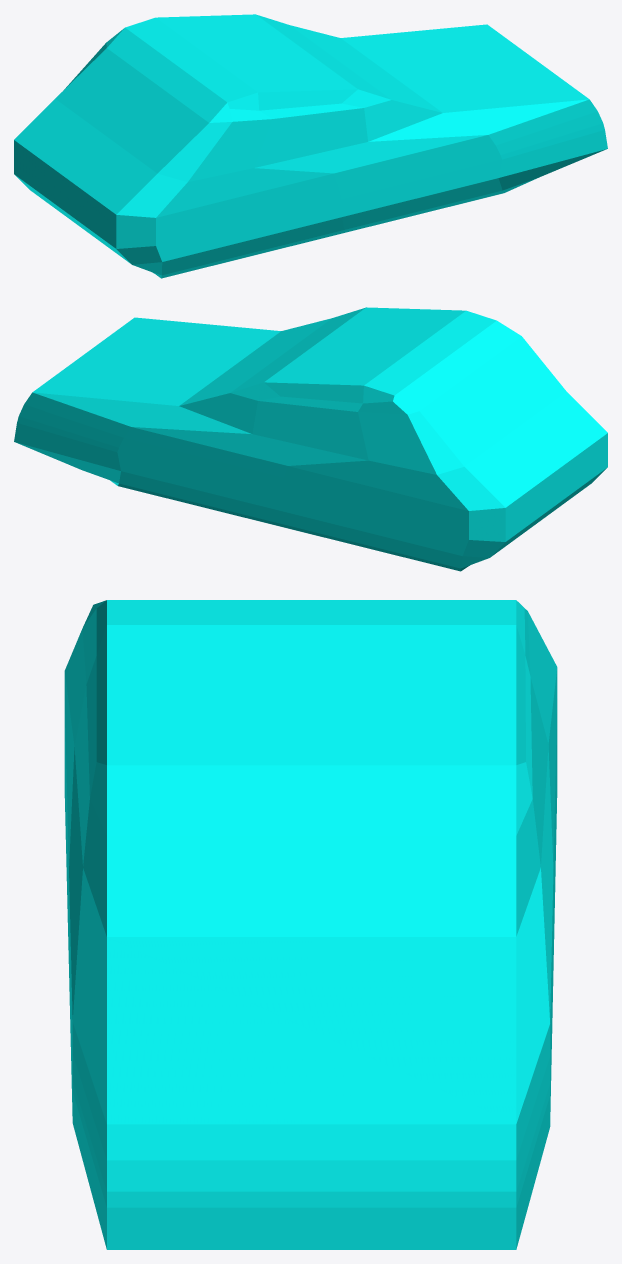
Rendered from CarroAzul.fbx.
The picture shows the model from 3 angles, top to bottom: view 1: azimuth 30°, elevation 25°; view 2: azimuth 150°, elevation 25°; view 3: azimuth 270°, elevation 25°; orthographic projection. The views are drawn at different scales.
Parts seen in each view (by area): view 1: pCube1; view 2: pCube1; view 3: pCube1.
Boxes of the visible parts, x1,y1,x2,y2 form: pCube1: [14, 14, 607, 278]; pCube1: [14, 307, 607, 571]; pCube1: [64, 600, 557, 1249].
Size of the model in its own units: 24.27 by 7.42 by 10.53.
